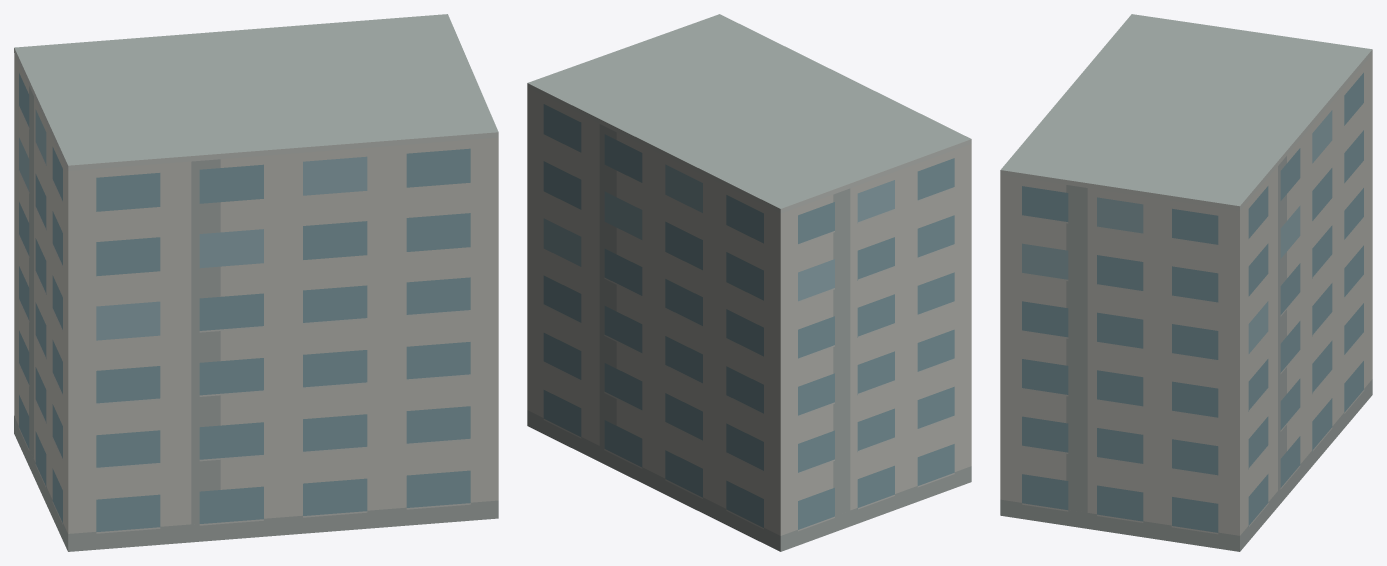
Rendered from survey-upis-32847032.glb.
3 renders of one model, left to right at view 1: azimuth 30°, elevation 25°; view 2: azimuth 150°, elevation 25°; view 3: azimuth 270°, elevation 25°, orthographic. The views are drawn at different scales.
Visible parts, largest first — view 1: survey-upis-32847032.tmp; view 2: survey-upis-32847032.tmp; view 3: survey-upis-32847032.tmp.
Boxes of the visible parts, x1=… form: survey-upis-32847032.tmp: x1=14, y1=14, x2=498, y2=551; survey-upis-32847032.tmp: x1=527, y1=14, x2=971, y2=551; survey-upis-32847032.tmp: x1=1000, y1=14, x2=1372, y2=551.
Size of the model in its own units: 20.64 by 17.3 by 16.89.
